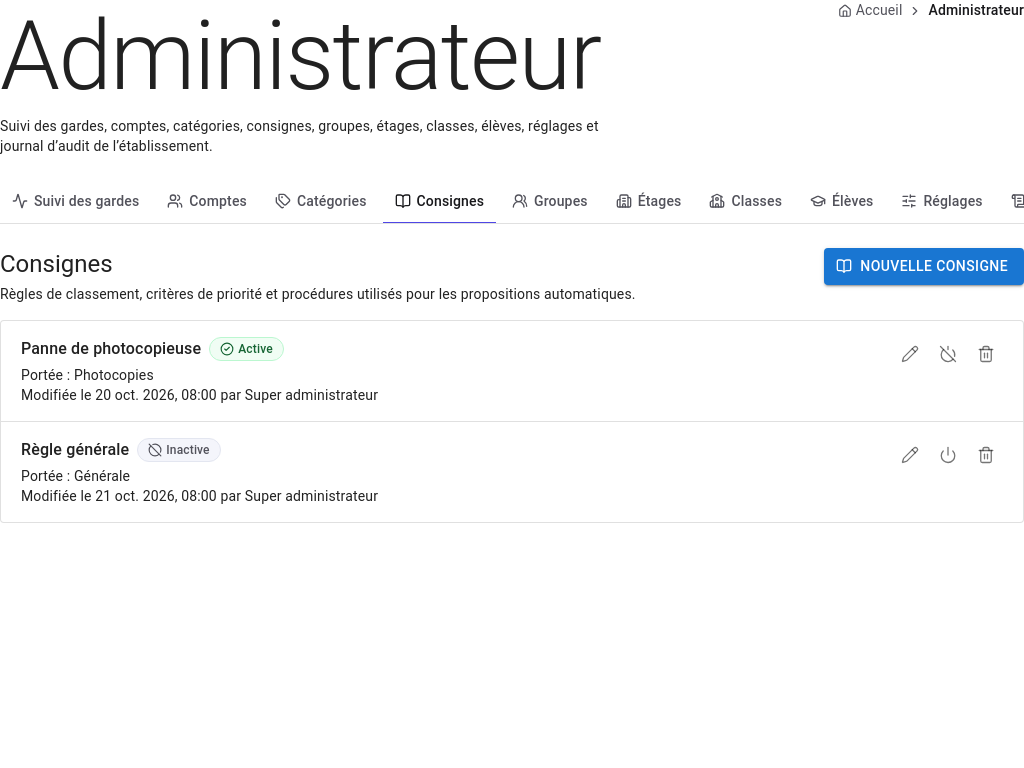
Scenario: Consignes › affiche l’erreur du serveur sous le champ concerné
Click the button "Nouvelle consigne". click: click(924, 266)
box: [824,248,1023,285]
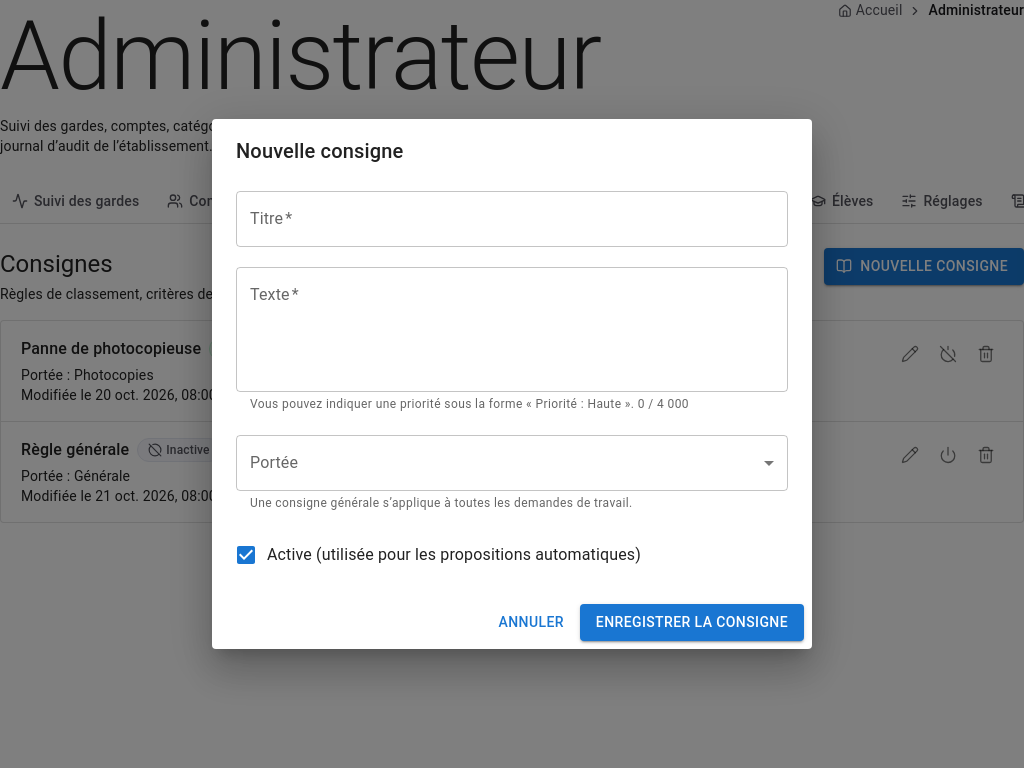
Type "Toner" into the field labelled "Titre *". click: (512, 219)
box: [236,191,788,247]
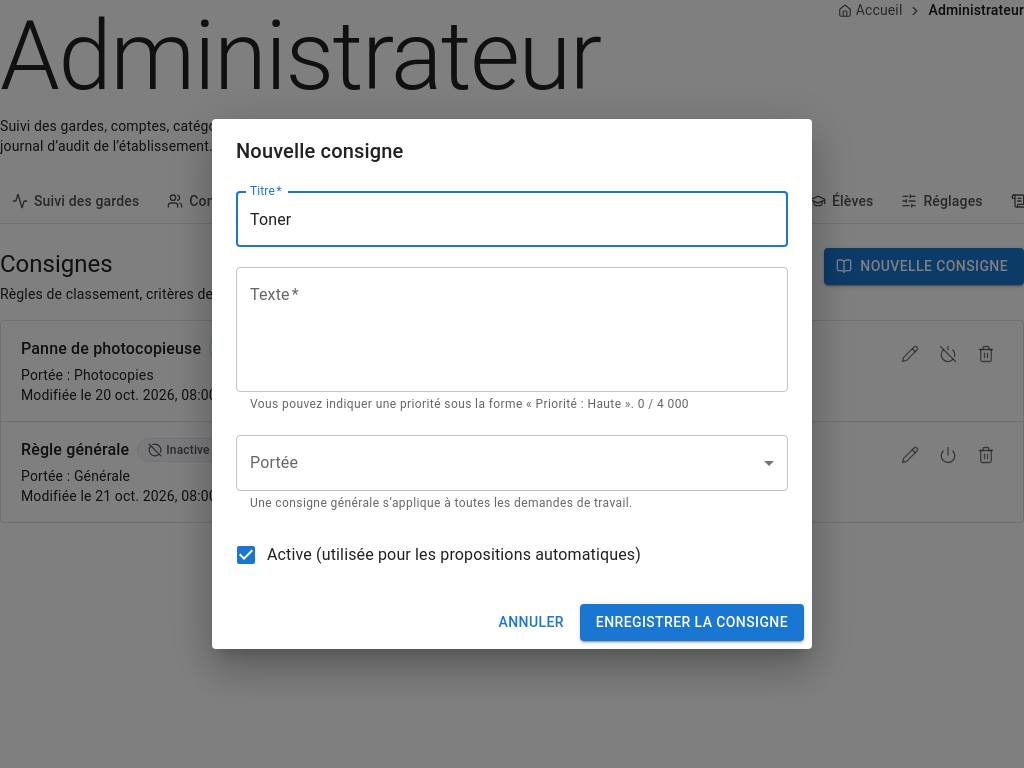
Type "Toner vide." into the text box labelled "Texte *". click: (512, 330)
box: [250,284,774,376]
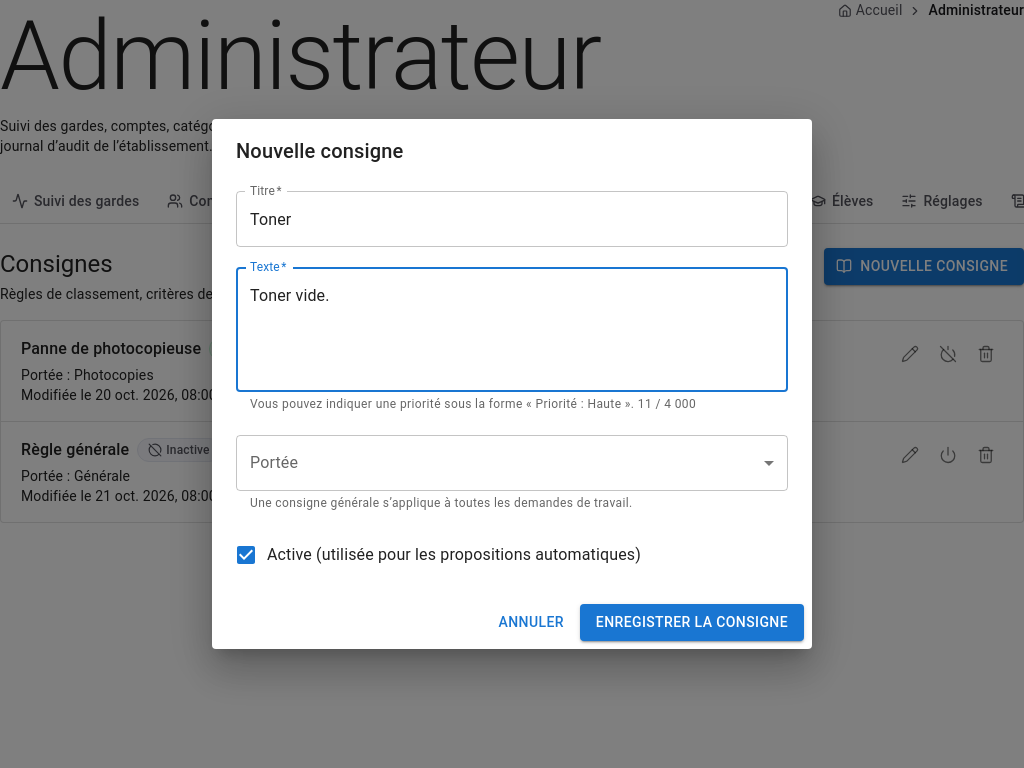
Click the button "Enregistrer la consigne". click: click(692, 622)
box: [580,604,804,641]
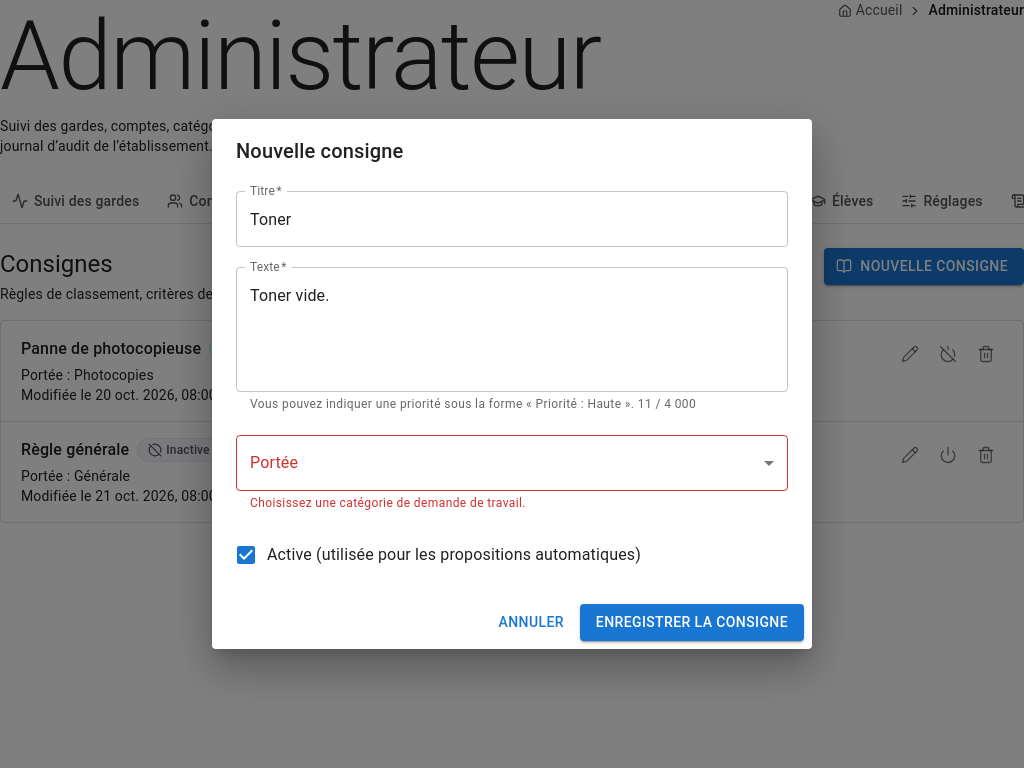
Expected: the text "Choisissez une catégorie de demande de travail." is shown, [250,496,526,510]
